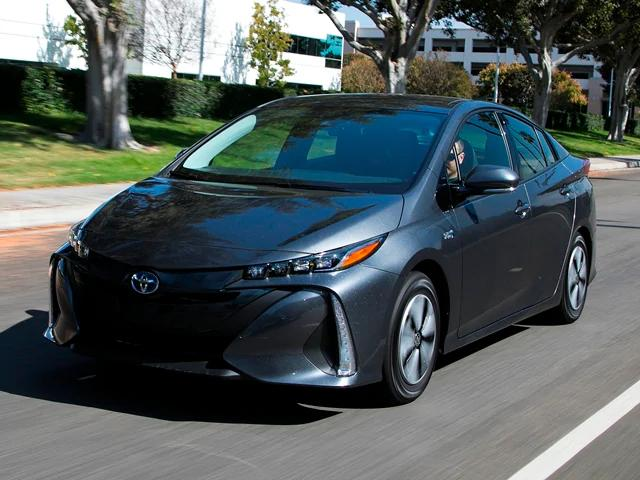Toyota Prius: (41, 92, 599, 405)
